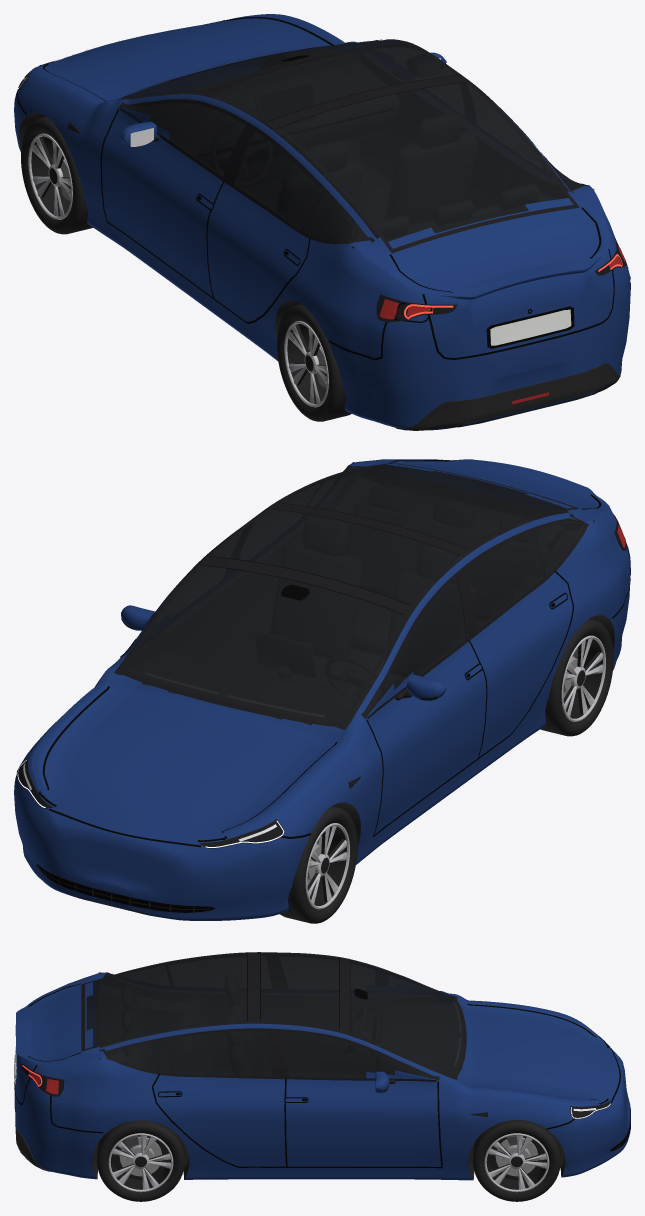
The picture shows the model from 3 angles, top to bottom: view 1: azimuth 30°, elevation 25°; view 2: azimuth 150°, elevation 25°; view 3: azimuth 270°, elevation 25°; orthographic projection. The views are drawn at different scales.
Parts seen in each view (by area): view 1: Body, Wheel_RL, Wheel_FL; view 2: Body, Wheel_FL, Wheel_RL; view 3: Body, Wheel_FR, Wheel_RR.
Part boxes in pixels (x1,y1,x2,y2): Body: (14,14,630,430); Wheel_RL: (277,304,351,421); Wheel_FL: (21,116,92,234); Body: (14,459,630,920); Wheel_FL: (280,806,357,923); Wheel_RL: (540,619,613,736); Body: (14,952,630,1180); Wheel_FR: (473,1120,560,1201); Wheel_RR: (97,1120,184,1201).
Size of the model in its own units: 2.09 by 1.44 by 4.72.
